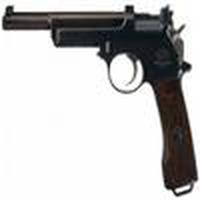gun: (3, 3, 200, 195)
